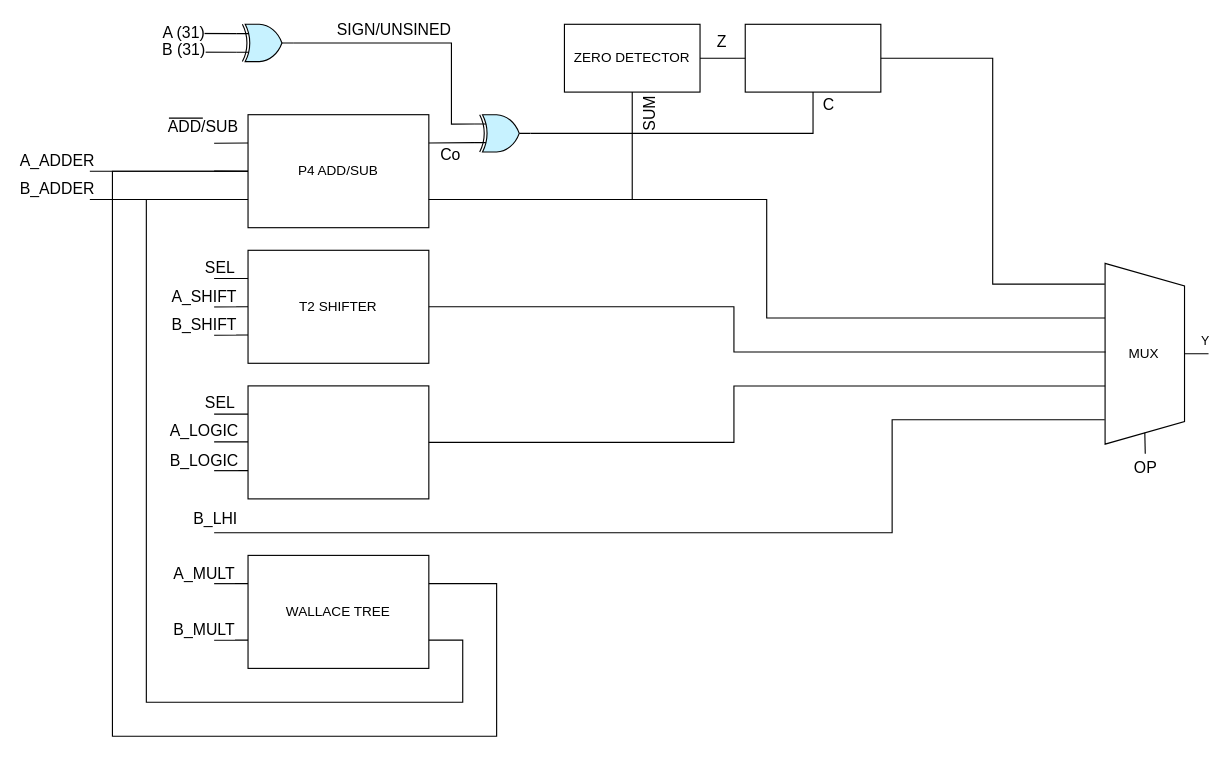
Image size: 1229x757. Some labels were removed from this diagram. The centre of each missing label's shape, as x and y in pixels:
"COMPARATOR" goes at [812,57].
"T2 LOGIC UNIT" goes at [338,442].
